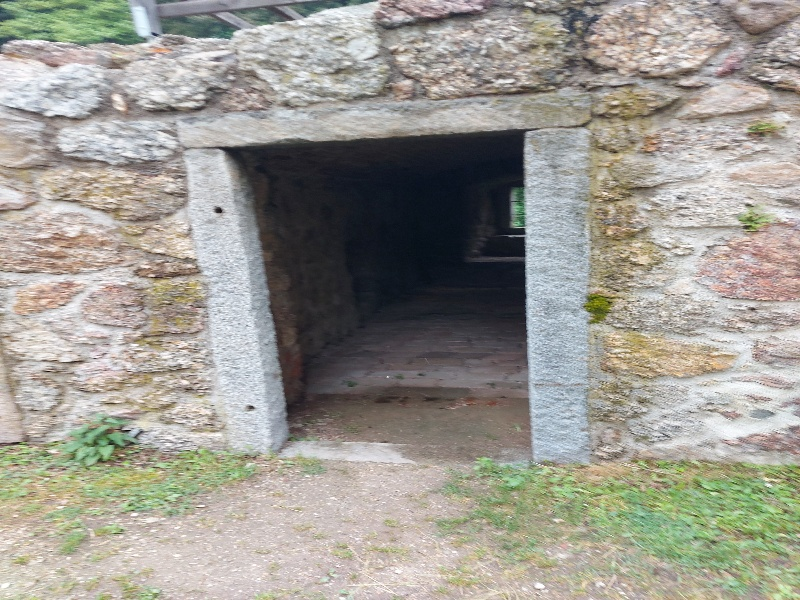door2: (158, 104, 614, 479)
